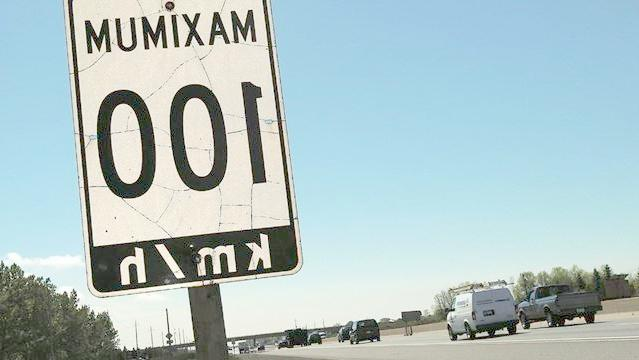speed limit sign: (66, 1, 295, 302)
